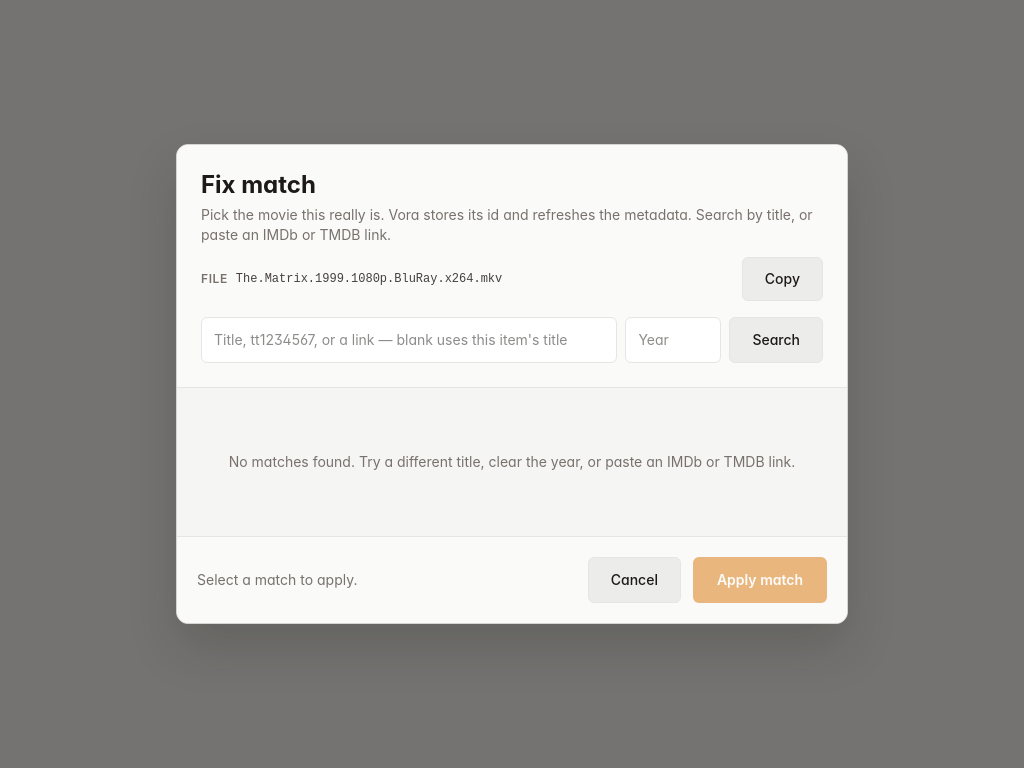
fix match files on disk › copies a name to the clipboard
Click the button with aria-label "Copy The.Matrix.1999.1080p.BluRay.x264.mkv": (782, 279) [742,257,823,301]
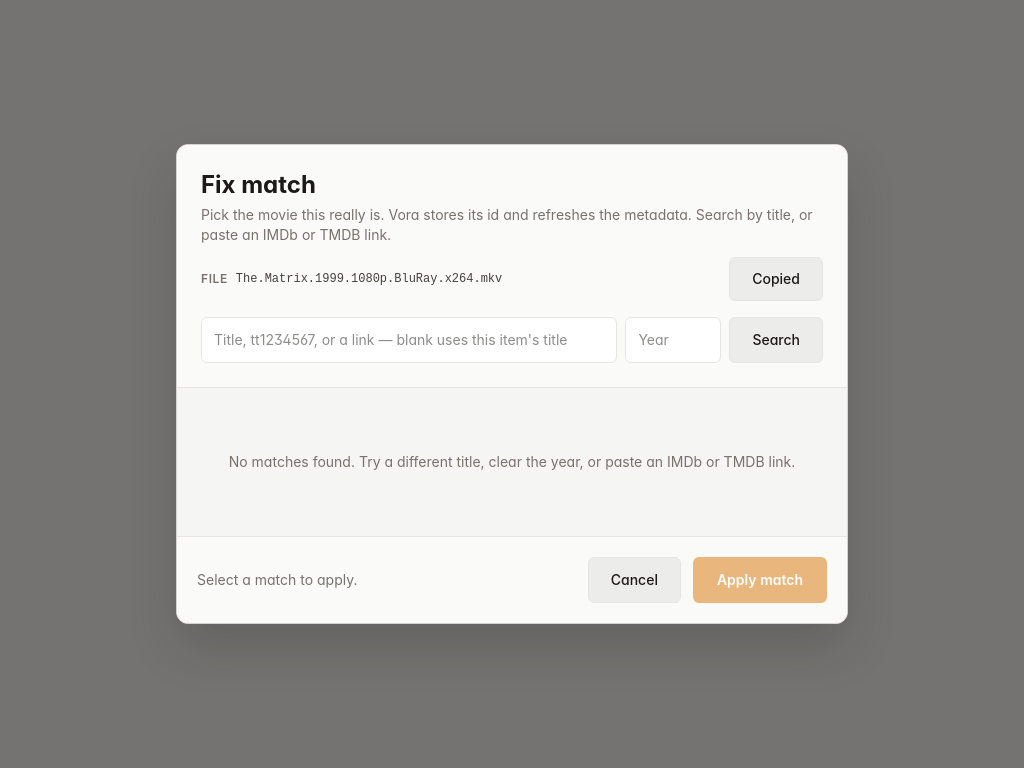
Result: the button "Copied" is shown at [729,257,823,301]
